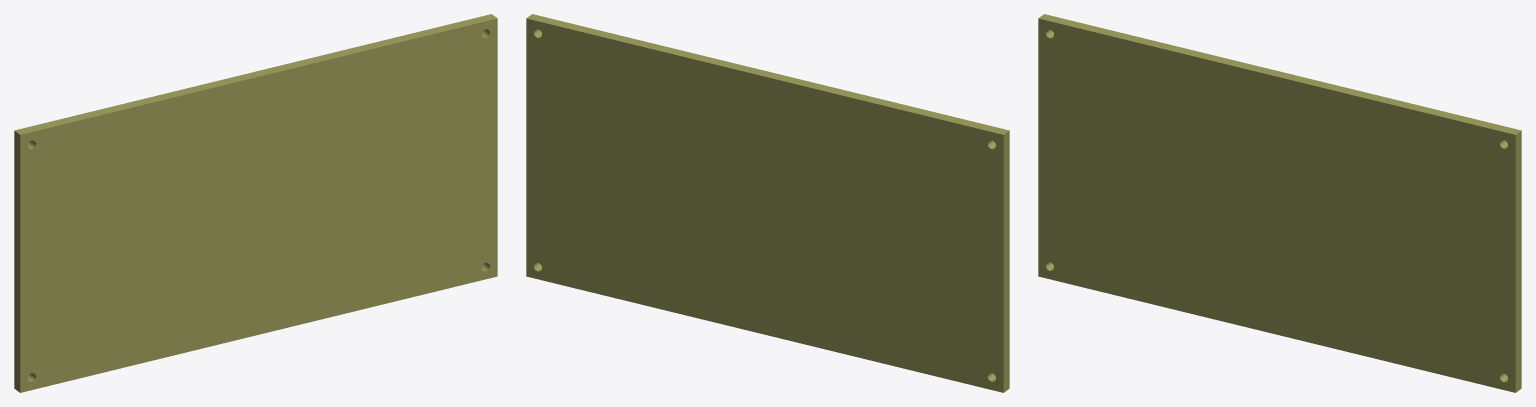
File: OBJ_PCB_AirQv2.obj
3 renders of one model, left to right at view 1: azimuth 30°, elevation 25°; view 2: azimuth 150°, elevation 25°; view 3: azimuth 330°, elevation 25°, orthographic.
Bounding box in the file's own units: 455 × 235 × 10.
